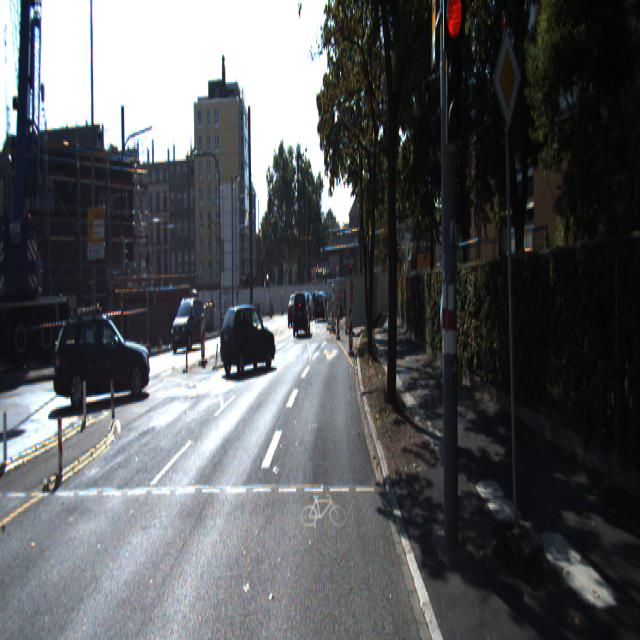Car: (55, 304, 152, 406), (217, 299, 276, 376), (170, 292, 205, 350), (292, 285, 310, 333), (288, 292, 302, 326)
